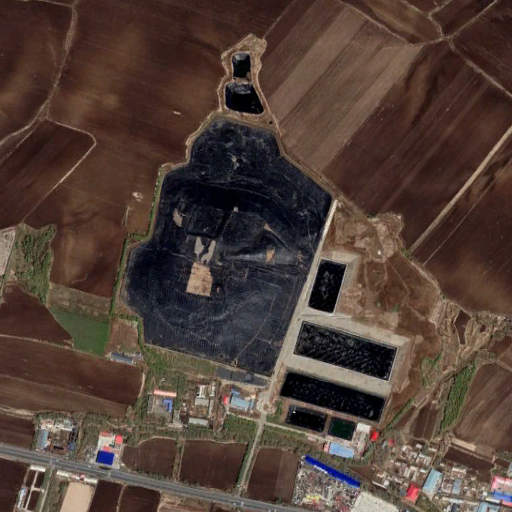lf: (120, 118, 337, 377)
